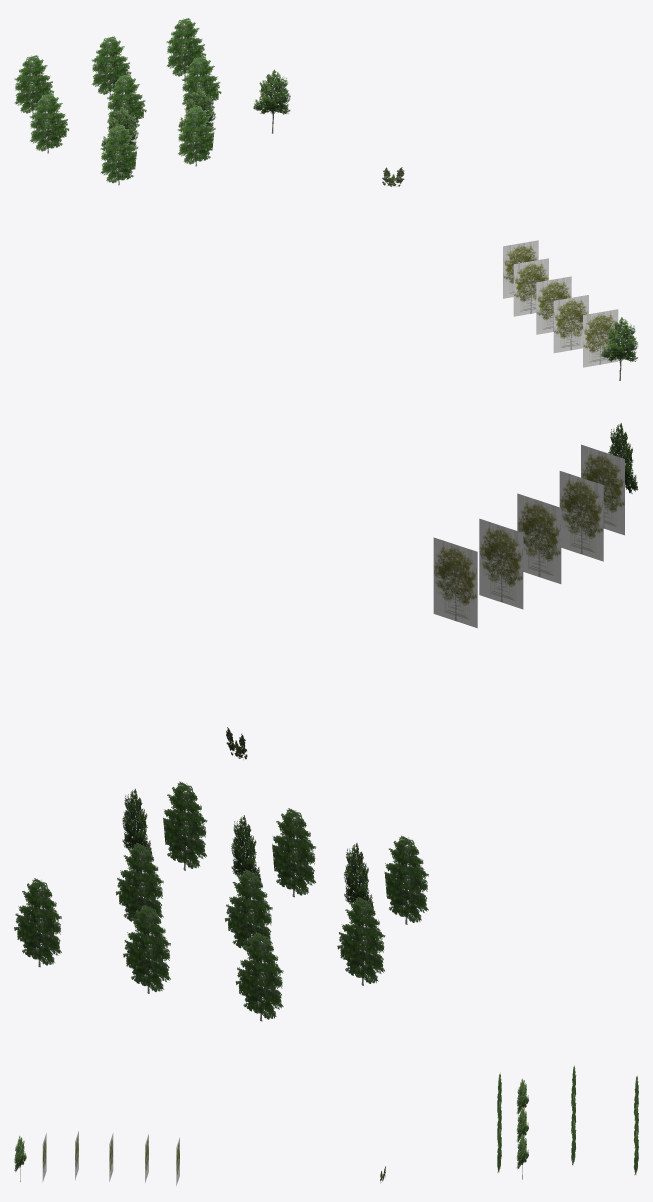
File: rightGrow.FBX
3 renders of one model, top to bottom at view 1: azimuth 30°, elevation 25°; view 2: azimuth 150°, elevation 25°; view 3: azimuth 270°, elevation 25°, orthographic. The views are drawn at different scales.
Parts seen in each view (by area): view 1: rightGrow; view 2: rightGrow; view 3: rightGrow.
Part boxes in pixels (x1=…): rightGrow: x1=14, y1=18, x2=637, y2=380; rightGrow: x1=14, y1=423, x2=638, y2=1021; rightGrow: x1=14, y1=1065, x2=638, y2=1185.
Bounding box in the file's own units: 3070 × 800 × 9206.
